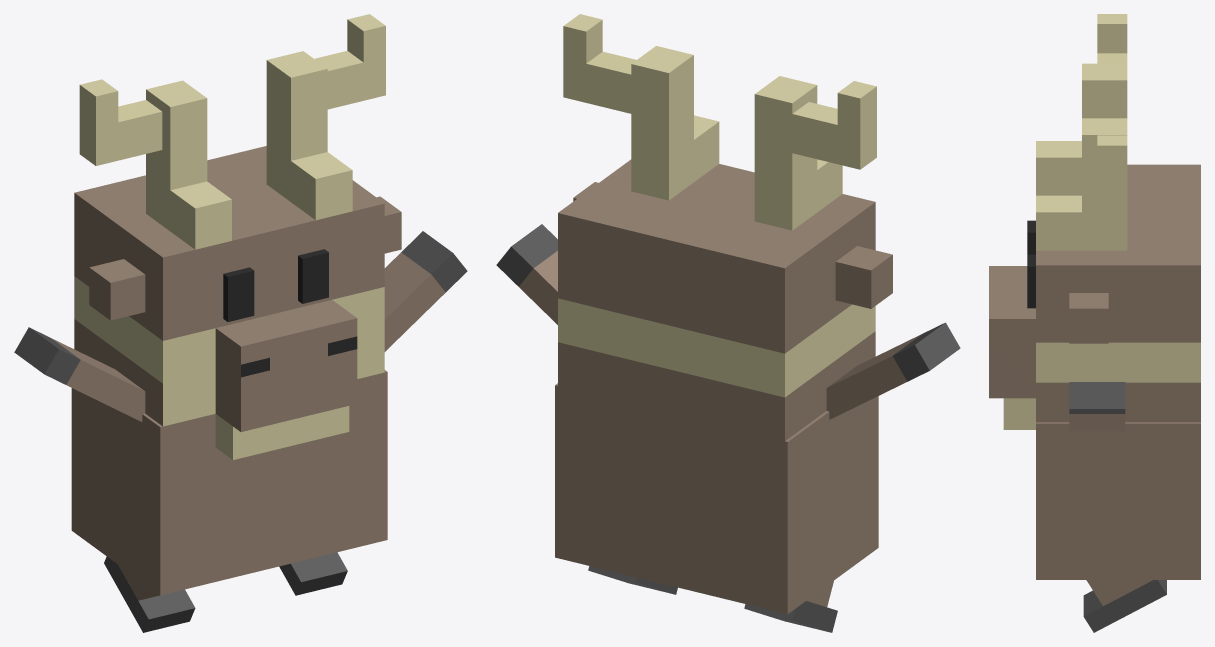
3 views of the same model, side by side, from view 1: azimuth 30°, elevation 25°; view 2: azimuth 150°, elevation 25°; view 3: azimuth 270°, elevation 25° (orthographic). The views are drawn at different scales.
Parts seen in each view (by area): view 1: Ch_28_Head, Ch_28, Ch_28_Hand_R, Ch_28_Hand_L, Ch_28_Eye_01, Ch_28_Leg_L, Ch_28_Leg_R; view 2: Ch_28_Head, Ch_28, Ch_28_Hand_L, Ch_28_Hand_R, Ch_28_Leg_L, Ch_28_Leg_R; view 3: Ch_28_Head, Ch_28, Ch_28_Leg_R, Ch_28_Hand_R, Ch_28_Eye_01.
Part boxes in pixels (x1,y1,x2,y2): Ch_28_Head: (74, 14, 401, 459); Ch_28: (71, 370, 387, 595); Ch_28_Hand_R: (384, 231, 467, 351); Ch_28_Hand_L: (14, 327, 145, 421); Ch_28_Eye_01: (223, 249, 328, 321); Ch_28_Leg_L: (104, 556, 195, 632); Ch_28_Leg_R: (279, 552, 347, 595); Ch_28_Head: (558, 14, 892, 441); Ch_28: (555, 383, 878, 614); Ch_28_Hand_L: (826, 322, 960, 419); Ch_28_Hand_R: (496, 224, 557, 324); Ch_28_Leg_L: (744, 581, 837, 632); Ch_28_Leg_R: (588, 566, 677, 594); Ch_28_Head: (989, 14, 1200, 429); Ch_28: (1036, 422, 1200, 579); Ch_28_Leg_R: (1083, 580, 1166, 632); Ch_28_Hand_R: (1069, 382, 1125, 431); Ch_28_Eye_01: (1027, 220, 1035, 308).
Bounding box in the file's own units: 12.03 × 14.83 × 5.61.
